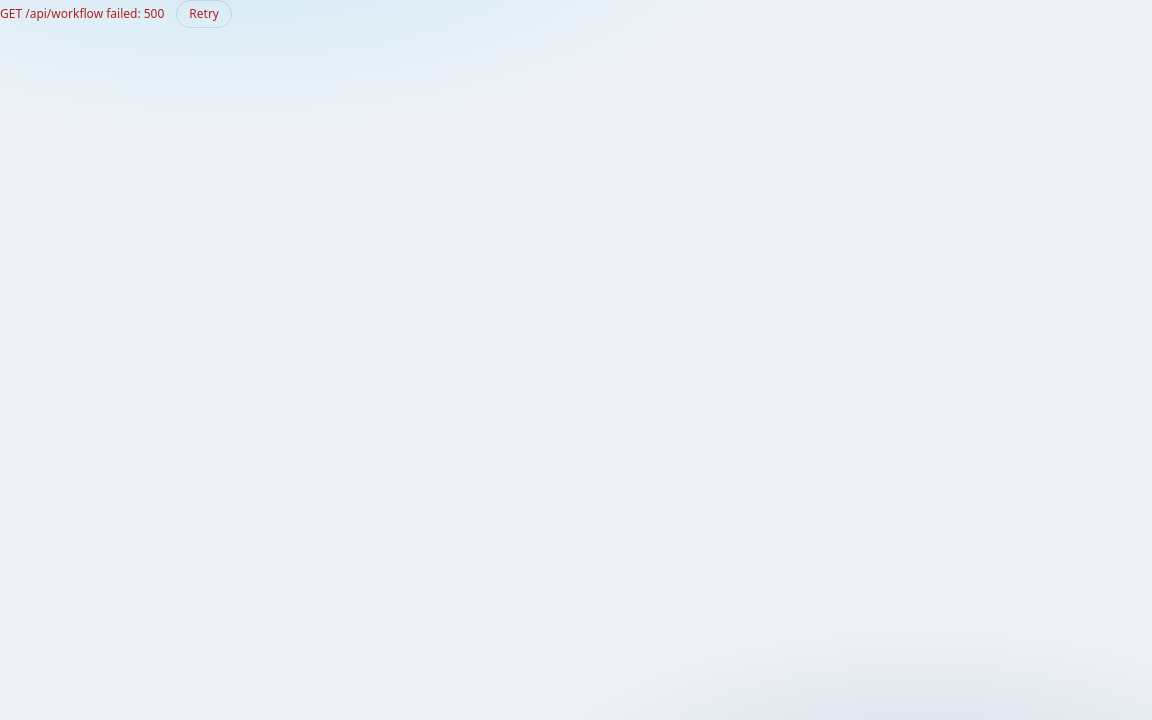
Scenario: WorkflowView › offers a retry when the workflow cannot be loaded
The width and height of the screenshot is (1152, 720).
Click the button "Retry" at x=204, y=14, box [176,0,232,28]
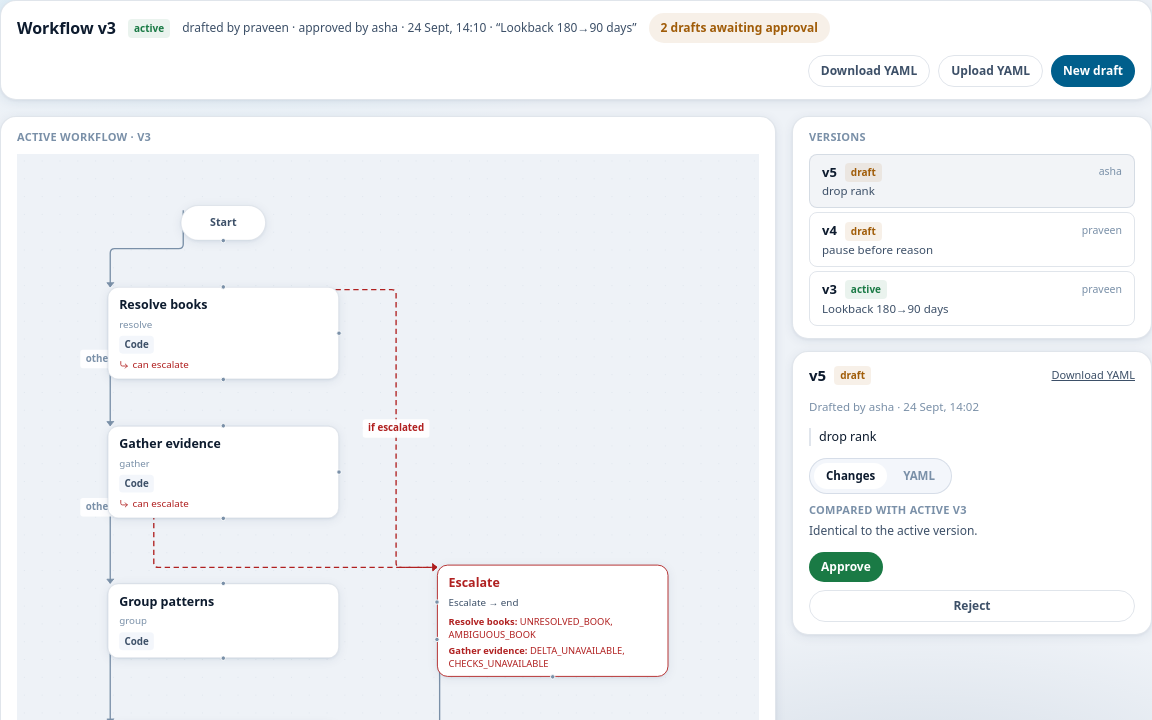
Result: the text "Workflow v3" is shown at [17,16,116,40]
